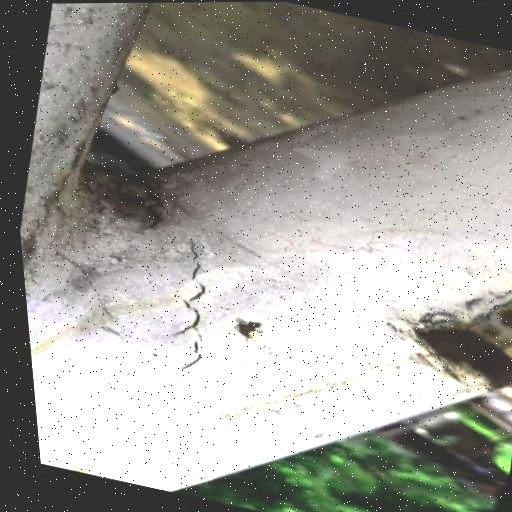crack: (146, 229, 241, 394)
